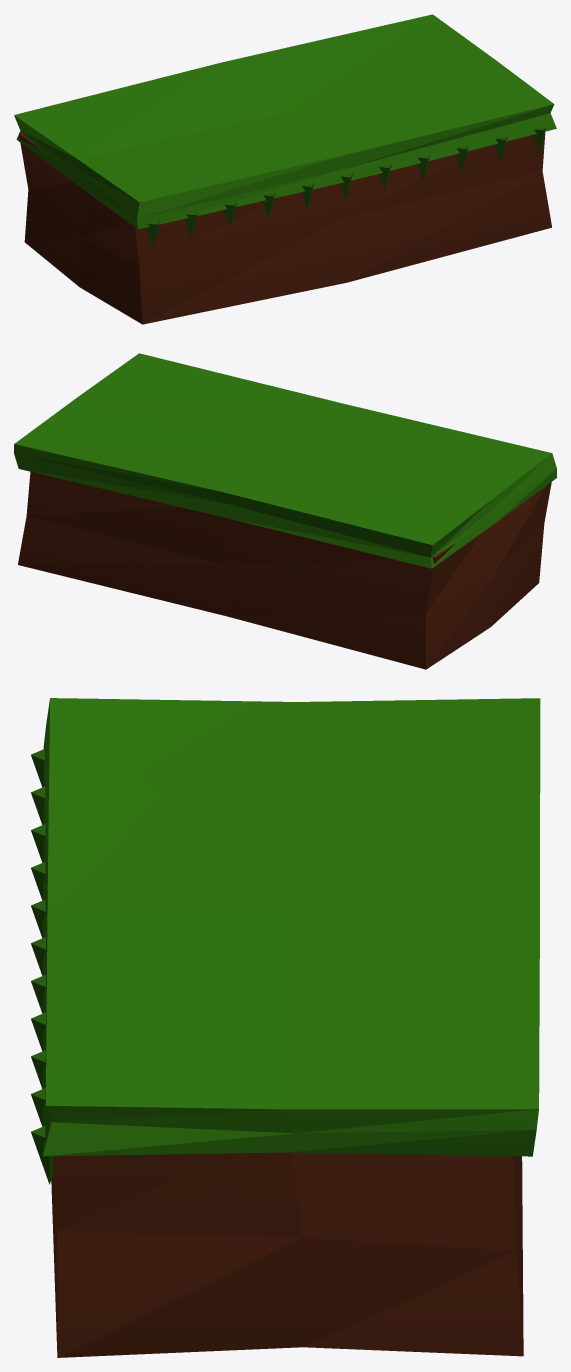
File: ridge_2x1.glb
The picture shows the model from 3 angles, top to bottom: view 1: azimuth 30°, elevation 25°; view 2: azimuth 150°, elevation 25°; view 3: azimuth 270°, elevation 25°; orthographic projection. The views are drawn at different scales.
Parts seen in each view (by area): view 1: ridge_2x1_root_body; view 2: ridge_2x1_root_body; view 3: ridge_2x1_root_body.
Part boxes in pixels (left/top/right/bottom): ridge_2x1_root_body: left=14, top=14, right=556, bottom=324; ridge_2x1_root_body: left=14, top=353, right=556, bottom=669; ridge_2x1_root_body: left=31, top=698, right=540, bottom=1357.
Bounding box in the file's own units: 4.13 × 1.23 × 2.17.
